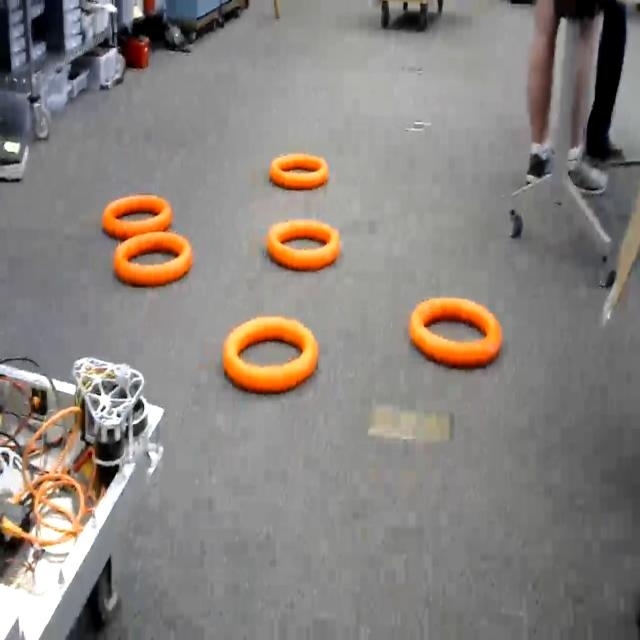note: (221, 310, 319, 397), (410, 287, 506, 374), (262, 214, 347, 277), (109, 236, 197, 288), (269, 148, 331, 194), (100, 193, 177, 230)
